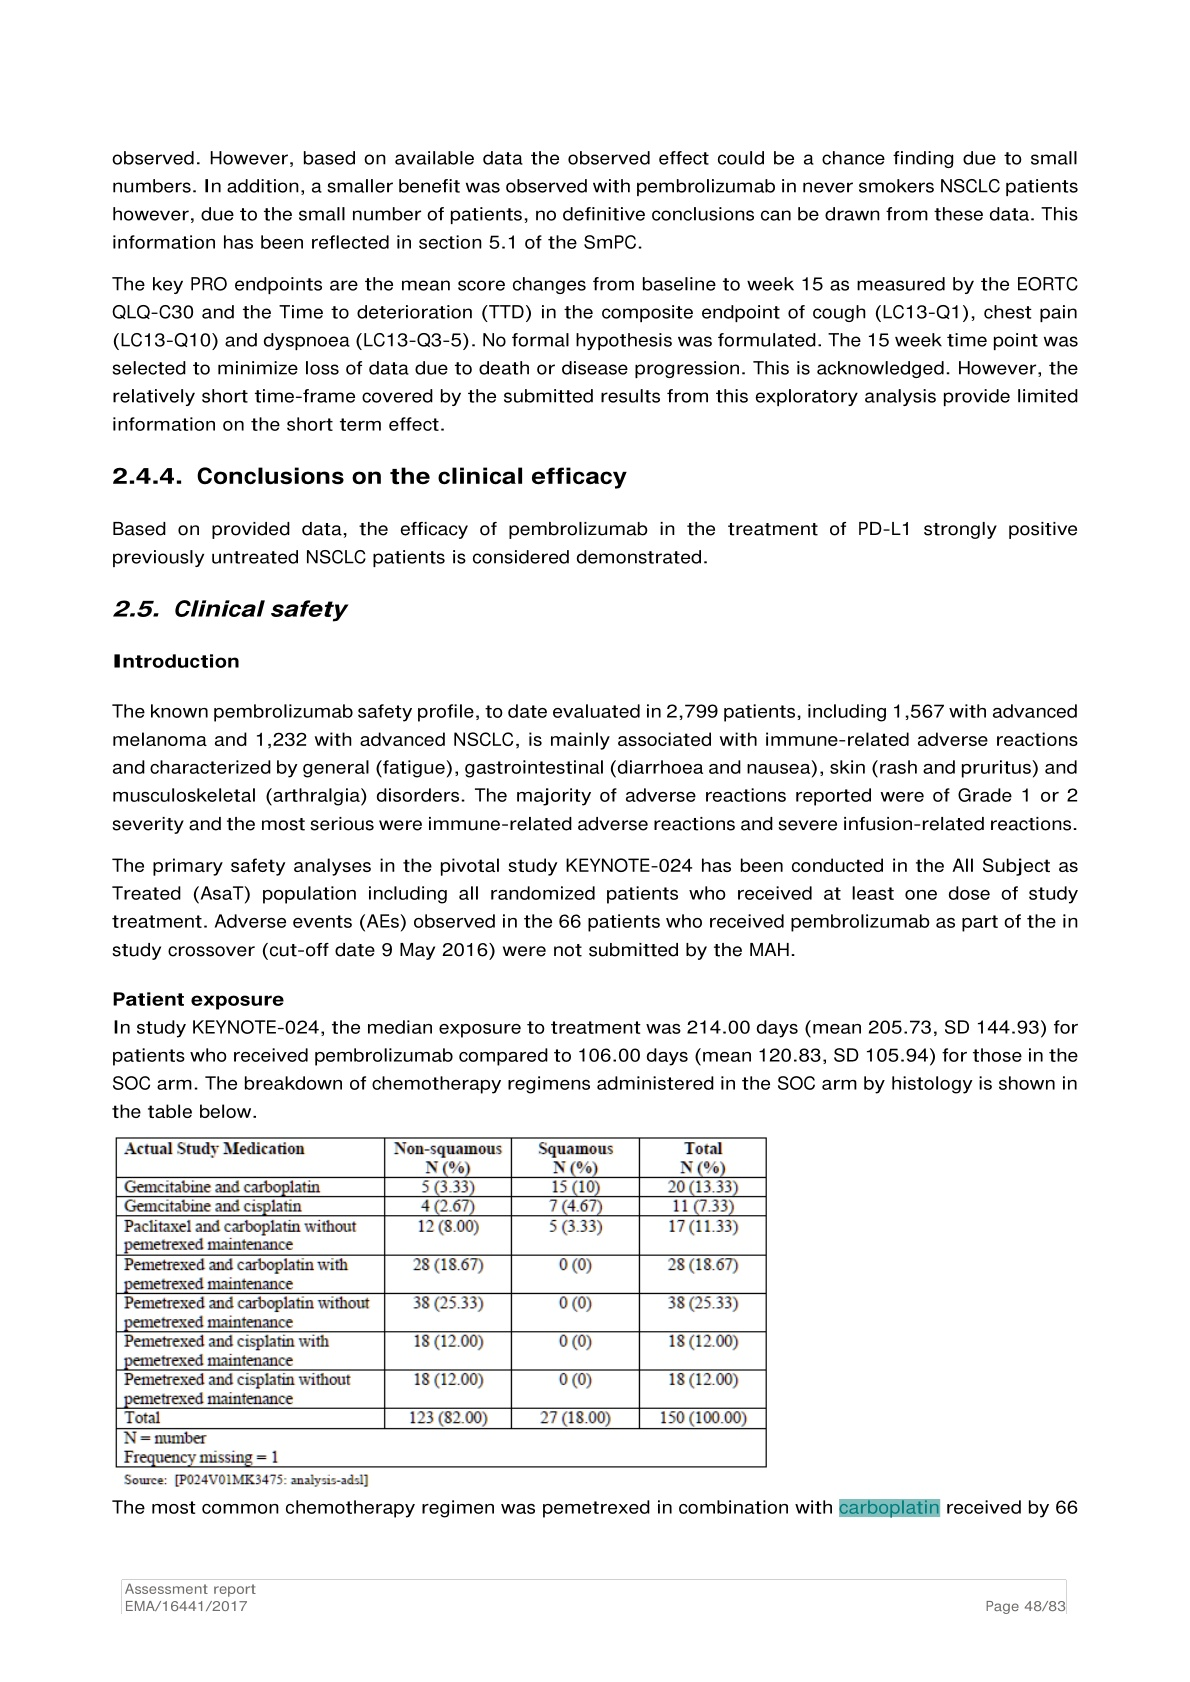merged_cells: (115, 1136, 768, 1469)
